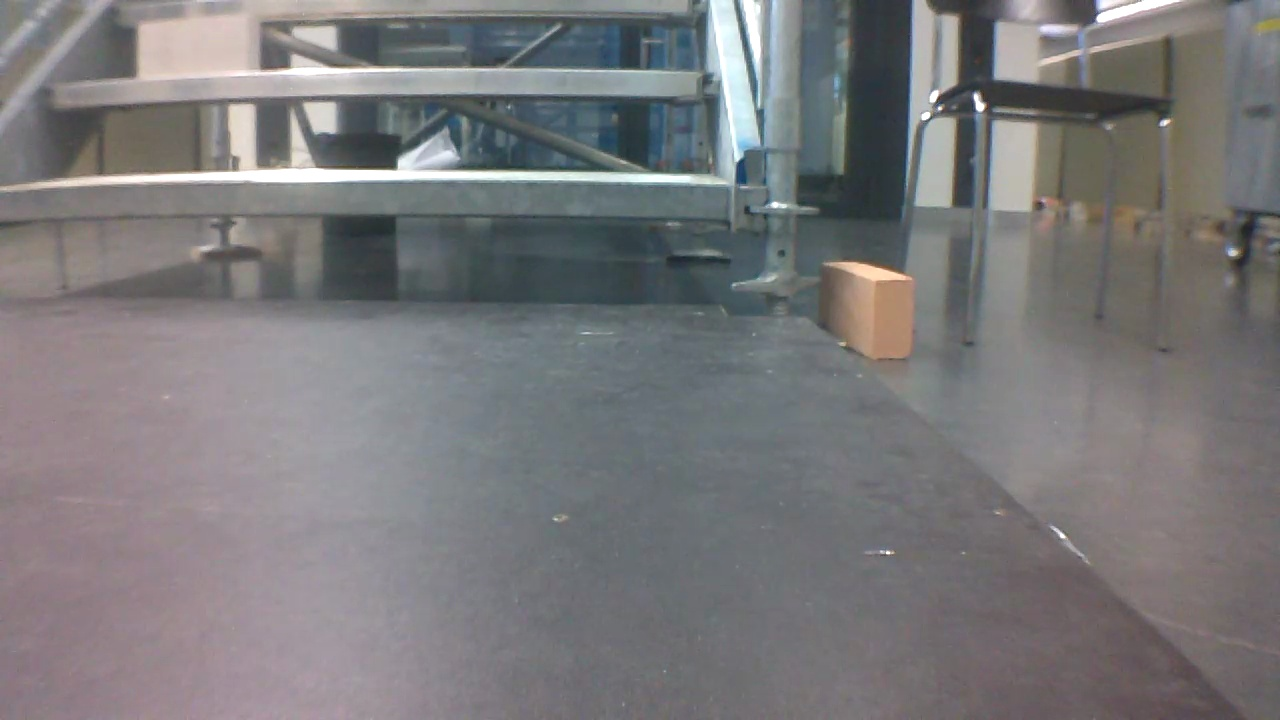brick: (821, 262, 912, 356), (142, 15, 262, 72)
edge: (3, 176, 726, 214), (49, 70, 714, 105), (116, 2, 712, 17)
stairs: (0, 1, 796, 309)
